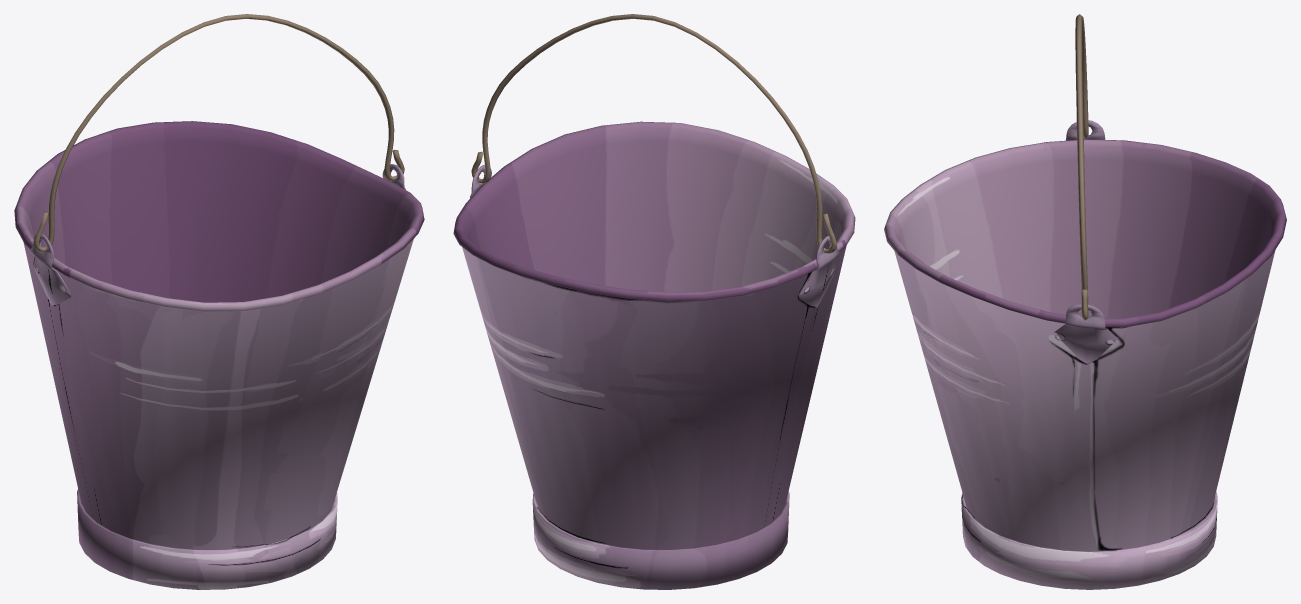
The model's file is MetalBucket.fbx.
3 renders of one model, left to right at view 1: azimuth 30°, elevation 25°; view 2: azimuth 150°, elevation 25°; view 3: azimuth 270°, elevation 25°, orthographic.
Visible parts, largest first — view 1: MetalBucket_LOD0; view 2: MetalBucket_LOD0; view 3: MetalBucket_LOD0.
Boxes of the visible parts, bbox=[...] form: MetalBucket_LOD0: bbox=[14, 14, 424, 589]; MetalBucket_LOD0: bbox=[453, 14, 855, 589]; MetalBucket_LOD0: bbox=[884, 14, 1286, 589].
Size of what is drawn, in the model's own units: 0.3209 by 0.4308 by 0.3077.
Materials: 1 (1 with a texture image).
